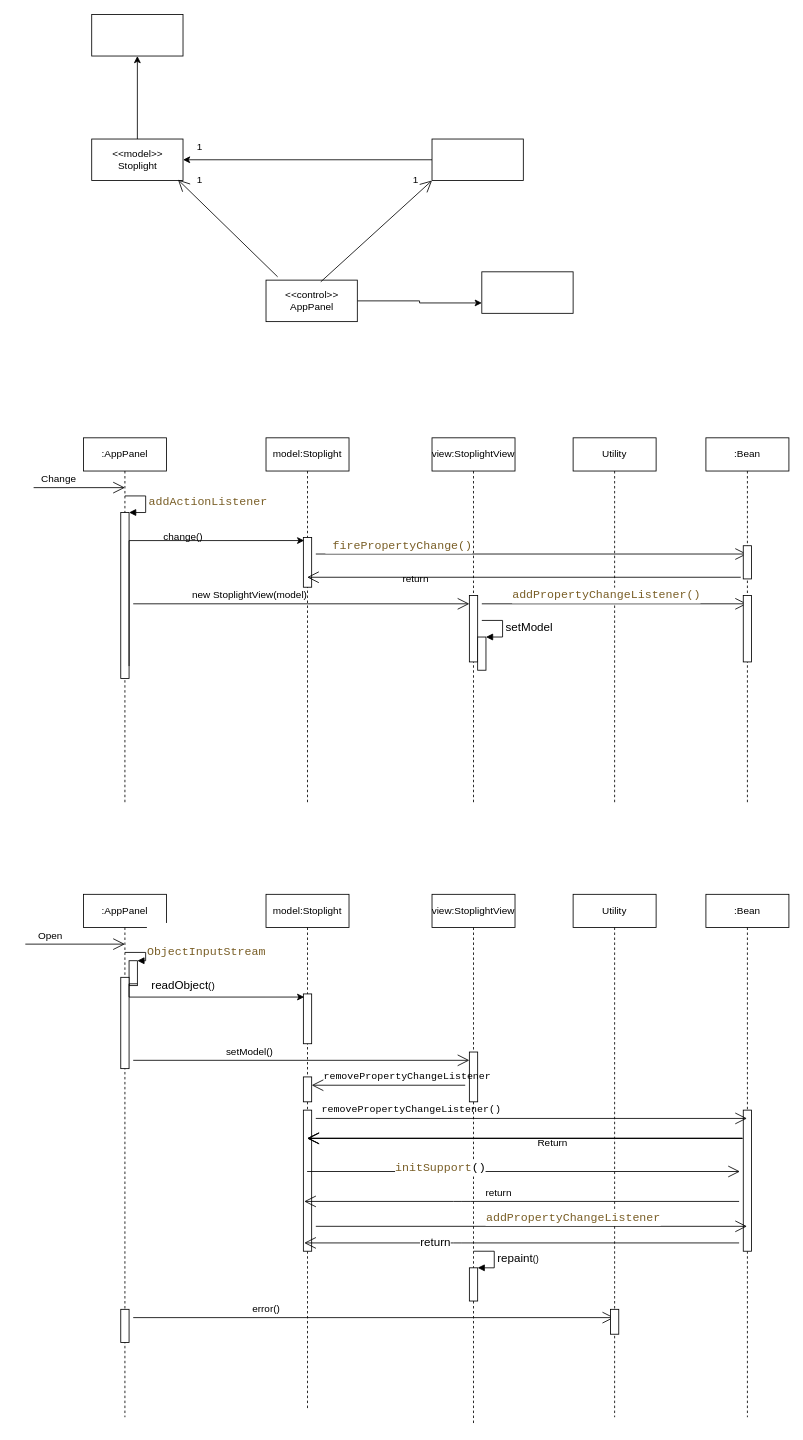
Image size: 803x1440. Some labels were removed from this diagram. The shapes that lost their labels are listed below. From the top down, each one's centre as x and y in pixels, then its label:
[137,35]: Bean
[477,159]: <<view>> StoplightView
[527,292]: Utilities
